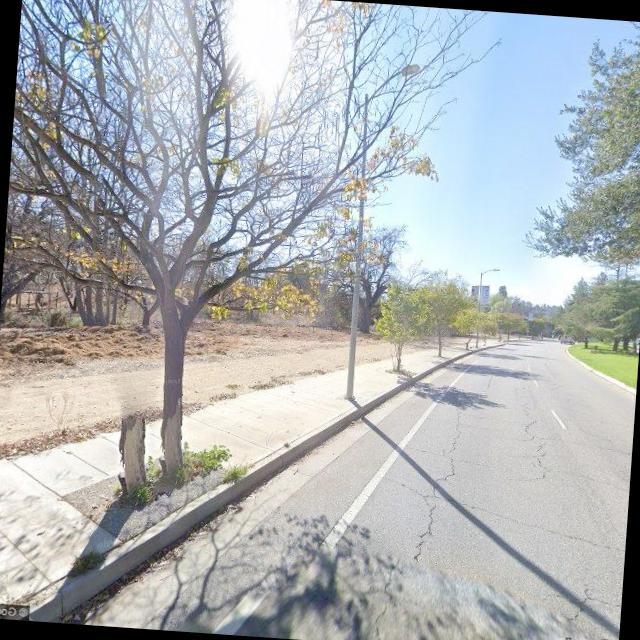crack: (360, 395, 634, 640), (516, 402, 558, 484)
